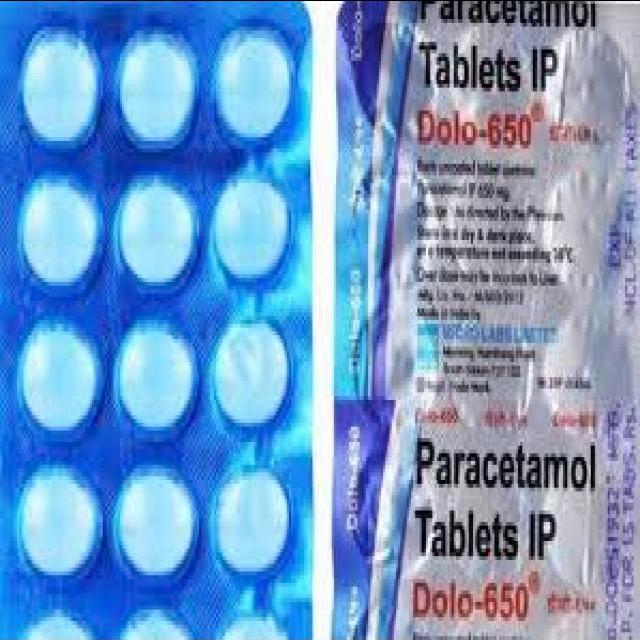authentic: (0, 0, 315, 640), (329, 0, 640, 640)
